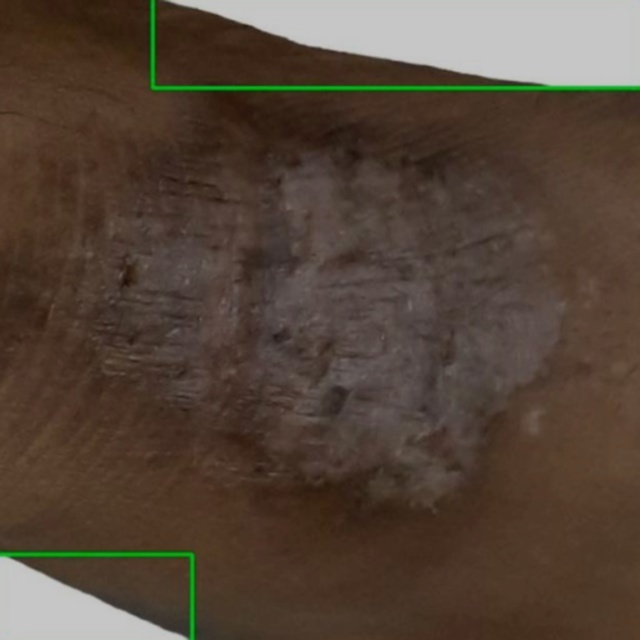Eczema: (151, 0, 639, 88), (0, 554, 192, 639)
